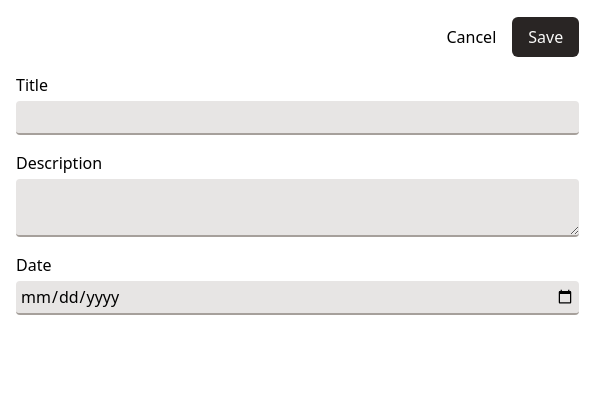
it: input handling and validation › shows validation errors for invalid inputs
In the field with test id "title": coordinates (298, 118) [16, 101, 579, 135], type "abc"
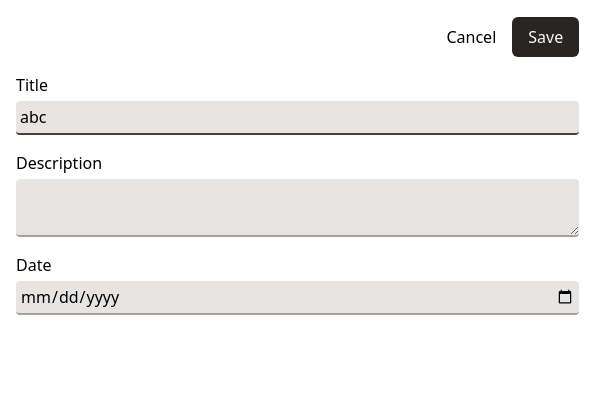
In the text box with test id "description": coordinates (298, 208) [16, 179, 579, 237], type "efg"
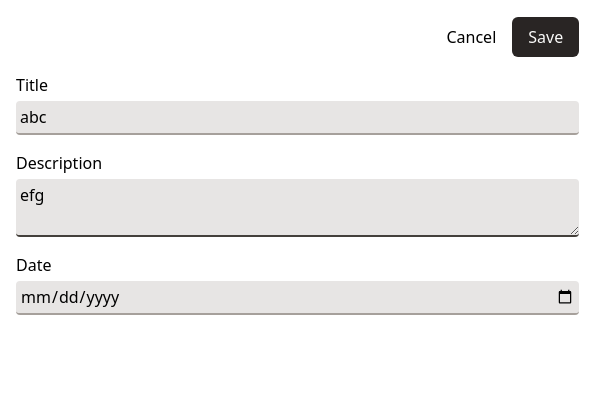
In the date field with test id "date": coordinates (298, 298) [16, 281, 579, 315], type "2025-06-12"
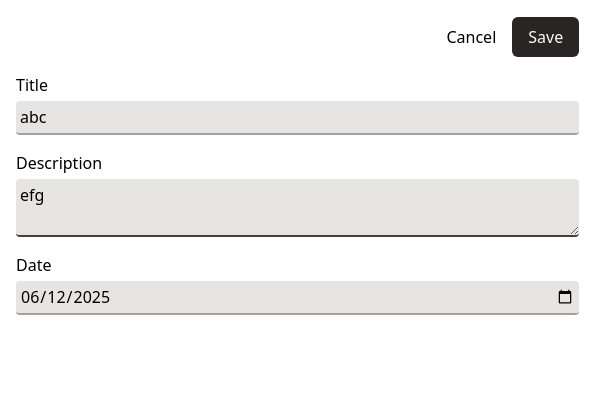
Click the button "Save": coordinates (546, 37) [512, 17, 579, 57]
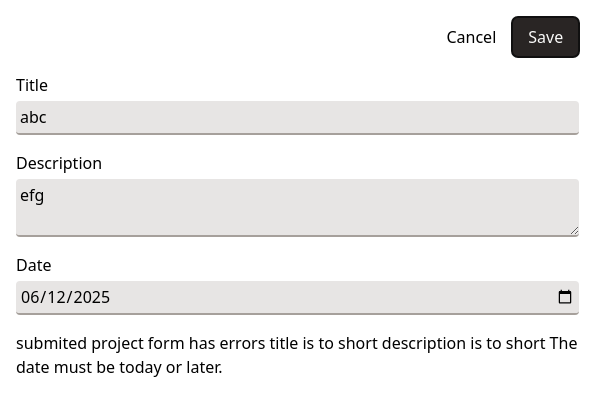
Expected: the text "title is to short" is shown, [265, 332, 382, 354]
Expected: the text "description is to short" is shown, [382, 332, 545, 354]
Expected: the text "The date must be today or later." is shown, [16, 332, 577, 378]
